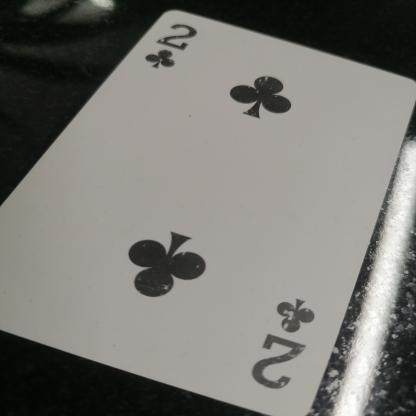2C: (245, 284, 332, 395), (147, 17, 203, 82)
